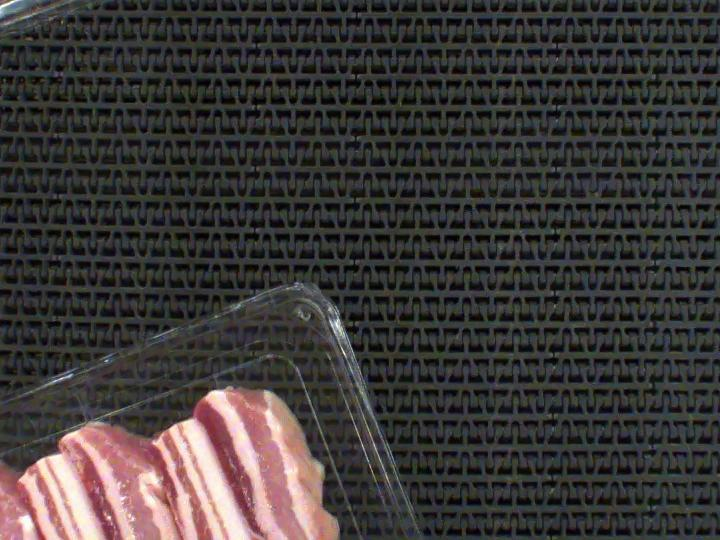packaging-error: (67, 389, 97, 423)
